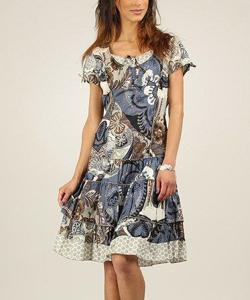C_dress: (47, 32, 188, 265)
C_skirt: (47, 156, 188, 266)
